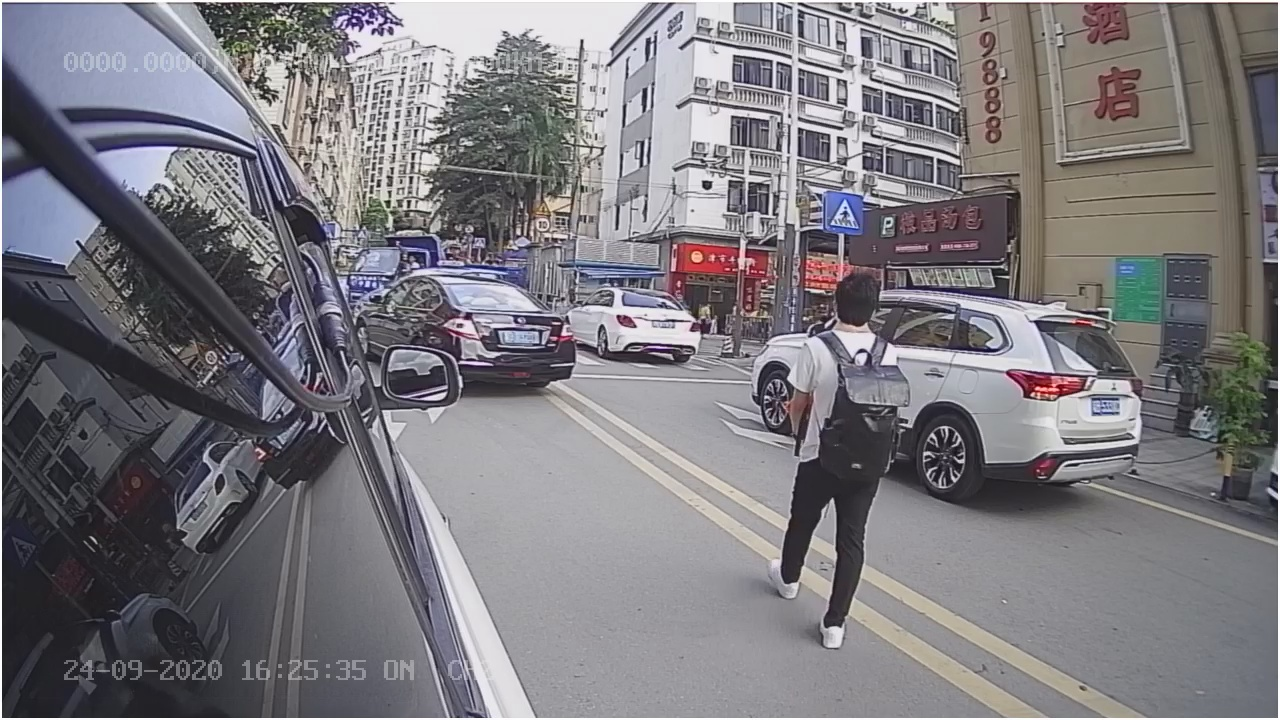person: (740, 276, 930, 644)
